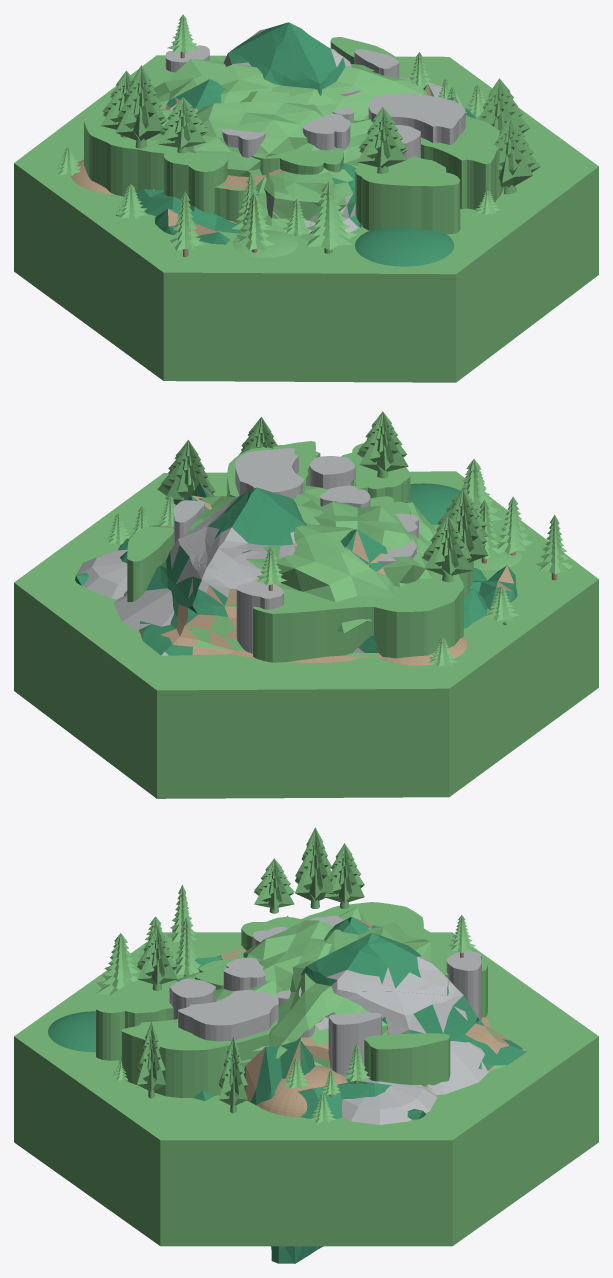
File: mounts_3.glb
3 views of the same model, one above another, from view 1: azimuth 30°, elevation 25°; view 2: azimuth 150°, elevation 25°; view 3: azimuth 270°, elevation 25° (orthographic). The views are drawn at different scales.
Visible parts, largest first — view 1: Mesh_Mesh_head_geo.001_lambert2SG.001; view 2: Mesh_Mesh_head_geo.001_lambert2SG.001; view 3: Mesh_Mesh_head_geo.001_lambert2SG.001.
Boxes of the visible parts, x1=… form: Mesh_Mesh_head_geo.001_lambert2SG.001: x1=14, y1=14, x2=598, y2=382; Mesh_Mesh_head_geo.001_lambert2SG.001: x1=14, y1=411, x2=598, y2=798; Mesh_Mesh_head_geo.001_lambert2SG.001: x1=14, y1=827, x2=598, y2=1263.
Bounding box in the file's own units: 84 × 51 × 100.
